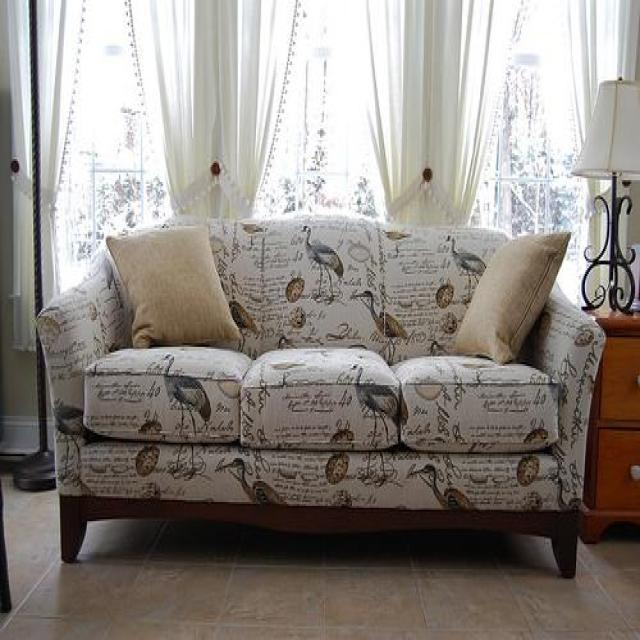sofa: (32, 206, 606, 580)
